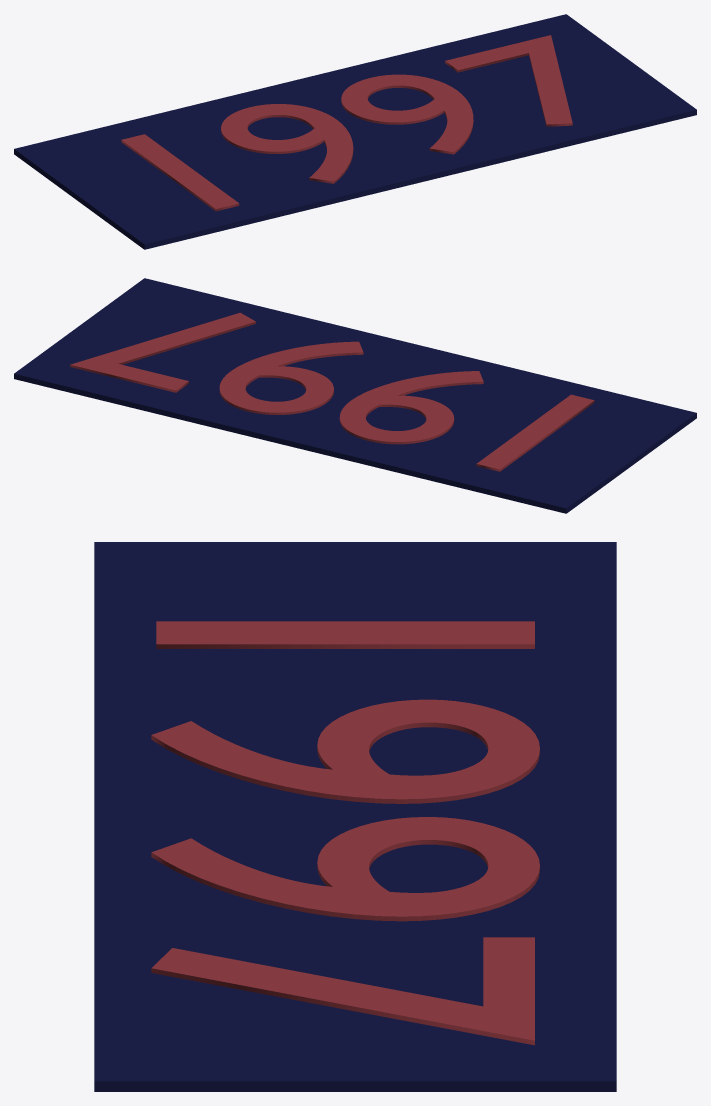
File: code2.fbx
3 renders of one model, top to bottom at view 1: azimuth 30°, elevation 25°; view 2: azimuth 150°, elevation 25°; view 3: azimuth 270°, elevation 25°, orthographic. The views are drawn at different scales.
Visible parts, largest first — view 1: Cube, Text; view 2: Cube, Text; view 3: Cube, Text.
Boxes of the visible parts, left/top/right/bottom form: Cube: left=14, top=14, right=696, bottom=249; Text: left=121, top=35, right=572, bottom=211; Cube: left=14, top=278, right=696, bottom=513; Text: left=70, top=312, right=594, bottom=471; Cube: left=94, top=542, right=616, bottom=1091; Text: left=151, top=621, right=539, bottom=1045.
Bounding box in the file's own units: 489 × 6.9 × 200.
